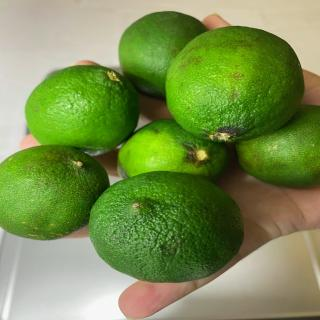Chilli: (88, 170, 245, 283), (164, 25, 305, 143)
Lemon: (0, 144, 110, 241), (24, 65, 140, 156), (118, 10, 209, 98), (117, 118, 230, 183), (234, 104, 320, 188)
